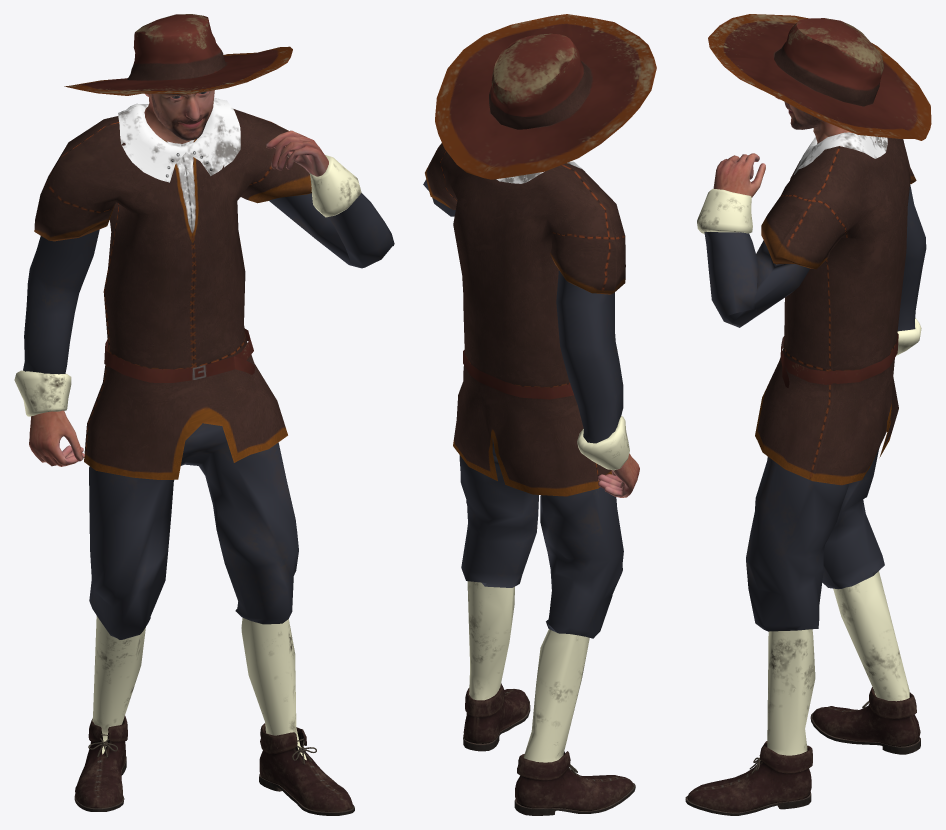
Rendered from IdleNoAimSample.fbx.
The picture shows the model from 3 angles, left to right: view 1: azimuth 30°, elevation 25°; view 2: azimuth 150°, elevation 25°; view 3: azimuth 270°, elevation 25°; orthographic projection. The views are drawn at different scales.
Visible parts, largest first — view 1: IdleNoAimLOD0; view 2: IdleNoAimLOD0; view 3: IdleNoAimLOD0.
Boxes of the visible parts, box(x1,y1,x2,y2) form: IdleNoAimLOD0: box(14, 14, 394, 815); IdleNoAimLOD0: box(423, 14, 656, 815); IdleNoAimLOD0: box(685, 14, 931, 815).
Size of what is drawn, in the model's own units: 71.97 by 185 by 55.6.
